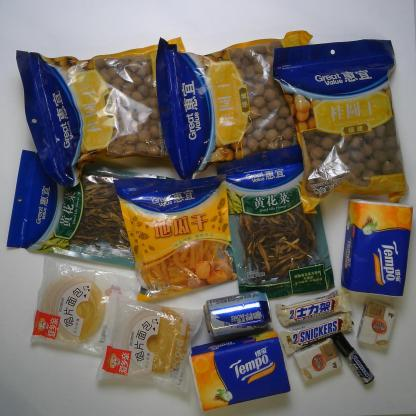Alcohol: (209, 289, 272, 340)
Chocolate: (282, 313, 359, 354), (278, 289, 353, 324)
Dessert: (25, 250, 138, 362), (97, 298, 207, 395)
Dried Food: (266, 40, 413, 205), (155, 37, 332, 160), (16, 49, 190, 172), (209, 147, 338, 294), (11, 147, 147, 269)
Dried Fruit: (112, 171, 242, 301)
Stationery: (327, 332, 382, 388)
Tissue: (188, 327, 302, 413), (339, 198, 413, 305), (358, 297, 406, 354), (293, 338, 354, 382)
